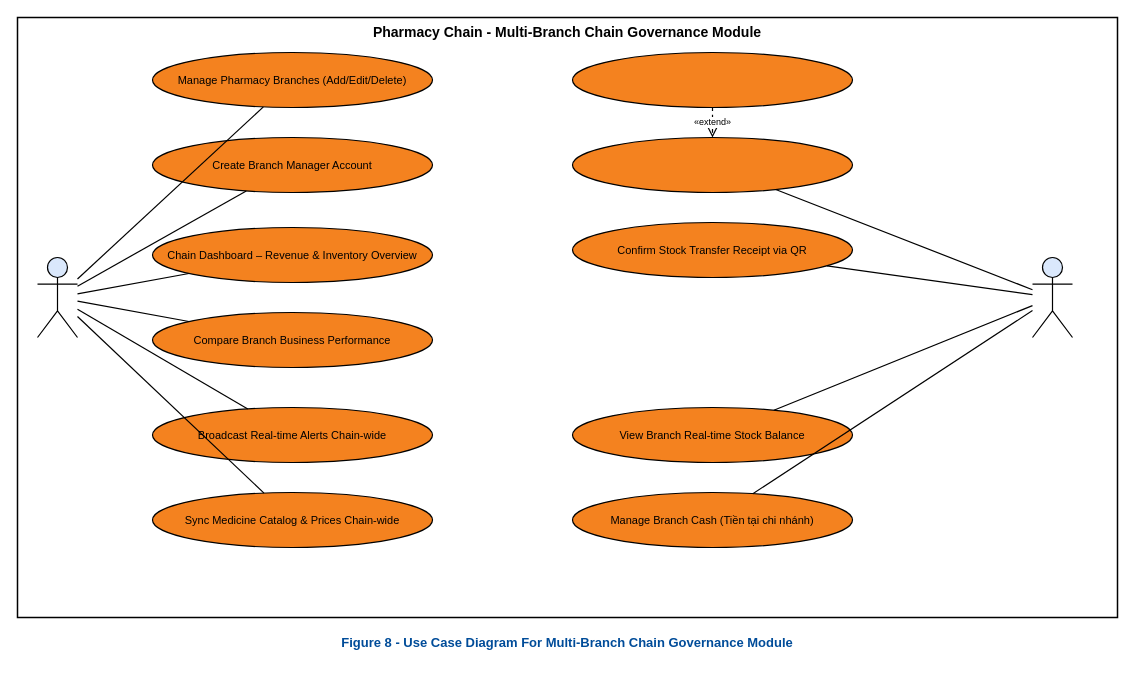
This 1136x675 diagram has some shape labels left out. Here are the shapes that lost their labels. From the top down, the centre of each, then its label:
point 712,79: Auto-suggest Stock Coordination Between Branches
point 712,164: Request Internal Stock Transfer between Branches
point 57,297: Admin
point 1052,297: Branch Manager
